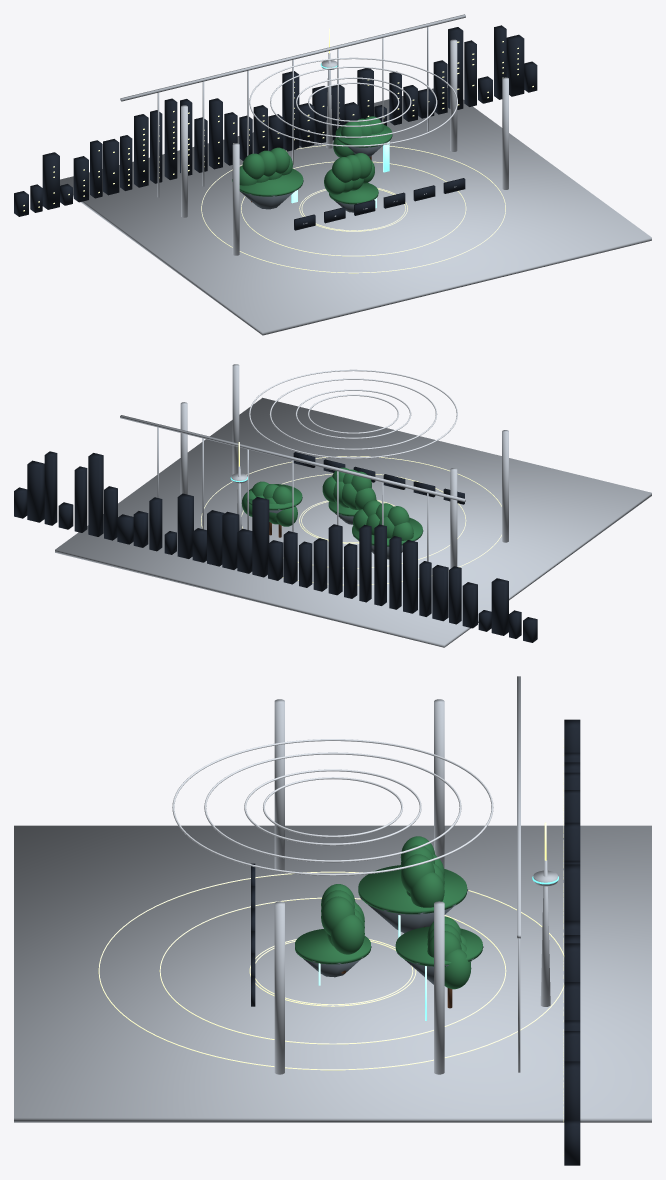
File: creativity.glb
The picture shows the model from 3 angles, top to bottom: view 1: azimuth 30°, elevation 25°; view 2: azimuth 150°, elevation 25°; view 3: azimuth 270°, elevation 25°; orthographic projection. The views are drawn at different scales.
Visible parts, largest first — view 1: Reflective floor, Window lintel, Toronto skyline.018, Toronto skyline.010, Toronto skyline.033, Toronto skyline.008, Floating garden, Toronto skyline.002, Ceiling light ring.003, Toronto skyline.013, Toronto skyline.006, Chrome column (+30 smaller); view 2: Reflective floor, Window lintel, Toronto skyline.018, Toronto skyline.029, Toronto skyline.008, Toronto skyline.033, Toronto skyline.023, Toronto skyline.010, Toronto skyline.013, Toronto skyline.032, Toronto skyline.002, Toronto skyline.011 (+28 smaller); view 3: Reflective floor, Floating garden, Ceiling light ring.003, Chrome column.002, Chrome column.003, Chrome column, Chrome column.001, Ceiling light ring.002, Floating garden.001, Floating garden.002, Architectural floor inlay.003, Ceiling light ring.001 (+13 smaller).
Boxes of the visible parts, x1=… form: Reflective floor: x1=60, y1=88, x2=651, y2=335; Window lintel: x1=120, y1=14, x2=465, y2=101; Toronto skyline.018: x1=282, y1=71, x2=299, y2=151; Toronto skyline.010: x1=164, y1=98, x2=177, y2=179; Toronto skyline.033: x1=506, y1=34, x2=524, y2=96; Toronto skyline.008: x1=134, y1=114, x2=148, y2=187; Floating garden: x1=232, y1=168, x2=303, y2=196; Toronto skyline.002: x1=42, y1=152, x2=59, y2=209; Ceiling light ring.003: x1=249, y1=57, x2=457, y2=146; Toronto skyline.013: x1=209, y1=98, x2=222, y2=169; Toronto skyline.006: x1=103, y1=139, x2=119, y2=195; Chrome column: x1=232, y1=143, x2=239, y2=255; Reflective floor: x1=55, y1=397, x2=651, y2=647; Window lintel: x1=120, y1=415, x2=465, y2=502; Toronto skyline.018: x1=252, y1=497, x2=269, y2=577; Toronto skyline.029: x1=88, y1=453, x2=103, y2=536; Toronto skyline.008: x1=403, y1=540, x2=417, y2=613; Toronto skyline.033: x1=27, y1=460, x2=44, y2=522; Toronto skyline.023: x1=177, y1=493, x2=193, y2=558; Toronto skyline.010: x1=374, y1=524, x2=386, y2=605; Toronto skyline.013: x1=328, y1=524, x2=342, y2=595; Toronto skyline.032: x1=44, y1=451, x2=57, y2=525; Toronto skyline.002: x1=491, y1=578, x2=508, y2=635; Toronto skyline.011: x1=359, y1=524, x2=371, y2=602; Reflective floor: x1=14, y1=825, x2=651, y2=1122; Floating garden: x1=358, y1=865, x2=467, y2=914; Ceiling light ring.003: x1=172, y1=739, x2=493, y2=875; Chrome column.002: x1=274, y1=901, x2=284, y2=1074; Chrome column.003: x1=434, y1=901, x2=444, y2=1074; Chrome column: x1=274, y1=699, x2=284, y2=872; Chrome column.001: x1=434, y1=699, x2=444, y2=868; Ceiling light ring.002: x1=204, y1=752, x2=461, y2=862; Floating garden.001: x1=395, y1=926, x2=482, y2=966; Floating garden.002: x1=295, y1=929, x2=370, y2=964; Architectural floor inlay.003: x1=98, y1=871, x2=564, y2=1070; Ceiling light ring.001: x1=244, y1=769, x2=421, y2=845.
Bounding box in the file's own units: 34.62 × 9.35 × 24.
